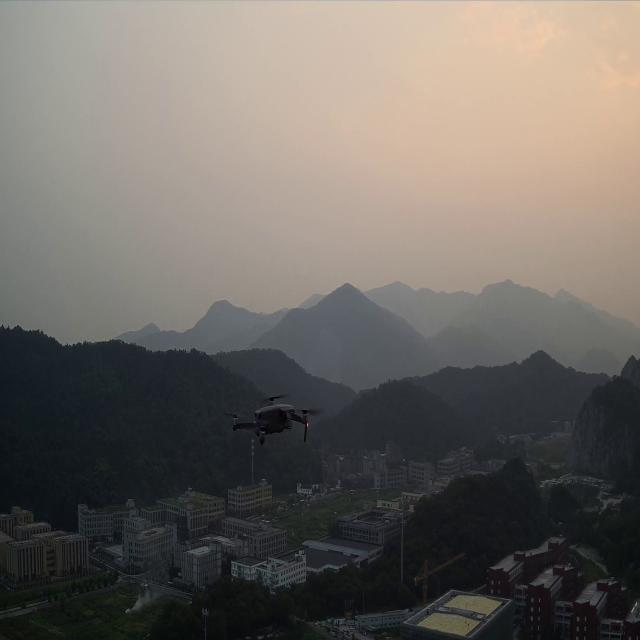UAV: (222, 392, 326, 448)
